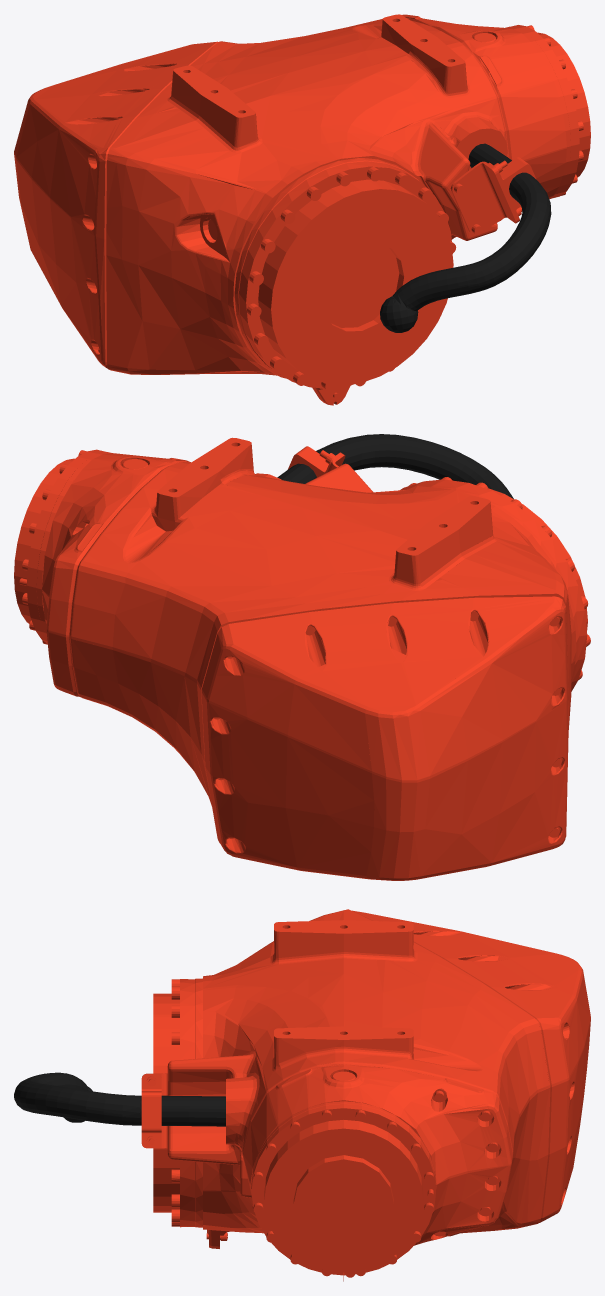
3 renders of one model, top to bottom at view 1: azimuth 30°, elevation 25°; view 2: azimuth 150°, elevation 25°; view 3: azimuth 270°, elevation 25°, orthographic. The views are drawn at different scales.
Visible parts, largest first — view 1: link_3; view 2: link_3; view 3: link_3.
Part boxes in pixels (x1=…): link_3: x1=14, y1=14, x2=590, y2=405; link_3: x1=14, y1=434, x2=590, y2=880; link_3: x1=14, y1=909, x2=590, y2=1281.
Size of the model in its own units: 0.5497 by 0.5737 by 0.3208.
